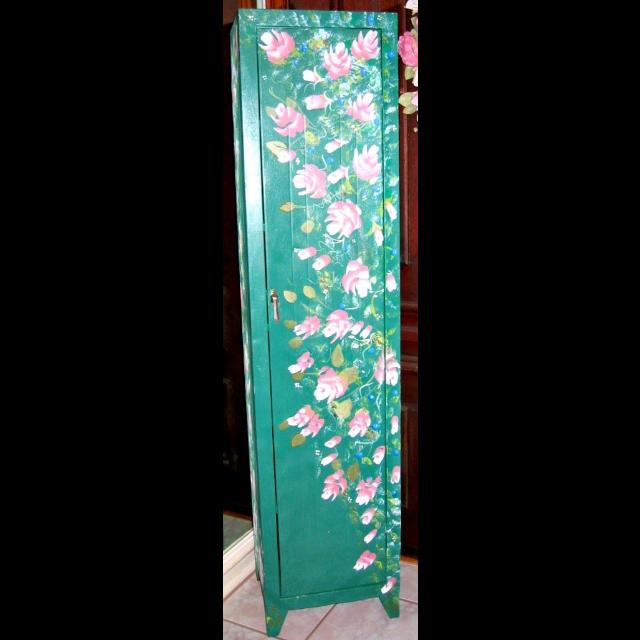Flower: (249, 0, 417, 588), (322, 193, 366, 231)
